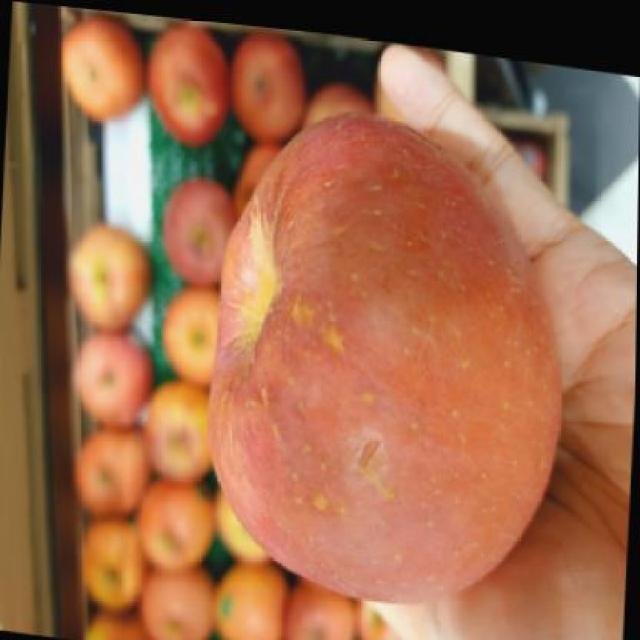Fresh Apple: (209, 116, 571, 604)
